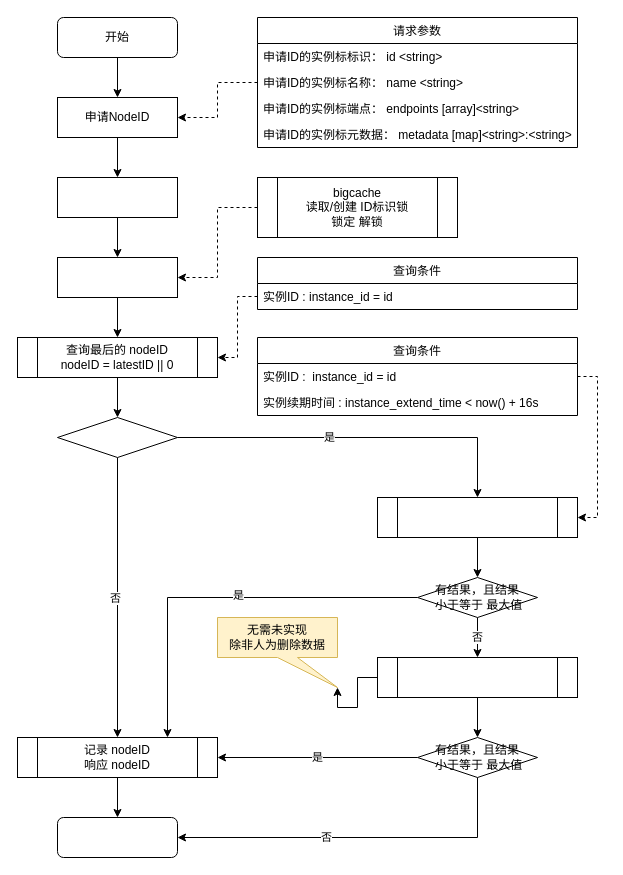
The diagram is 623 pixels wide and 875 high, and some of its shapes have lost their labels. The box of each missing label's shape, as (x1, y1, x2, y2) in pixels:
nodeID + 1 大于 最大值: (56, 416, 178, 458)
实例ID：顺序操作: (56, 256, 178, 298)
查询最后ID nodeID = latestID: (376, 496, 578, 538)
查询空缺的ID 每次查询步长为500: (376, 656, 578, 698)
结束: (56, 816, 178, 858)
节点ID提供者: (56, 176, 178, 218)
